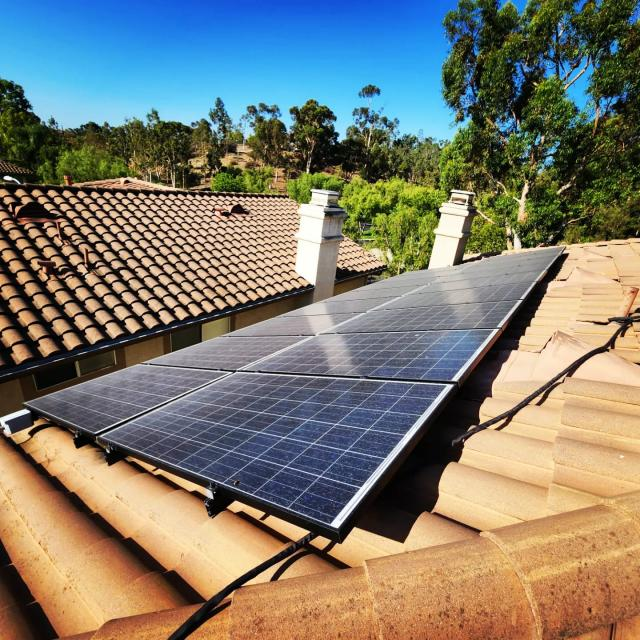dust-solar-panel: (23, 246, 562, 528)
